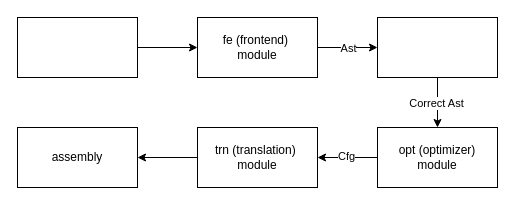
Image size: 515x205. Some labels were removed from this diagram. The centre of each missing label's shape, as x and y in pixels:
irl program: (x=77, y=47)
mw (middleware) module: (x=437, y=47)
